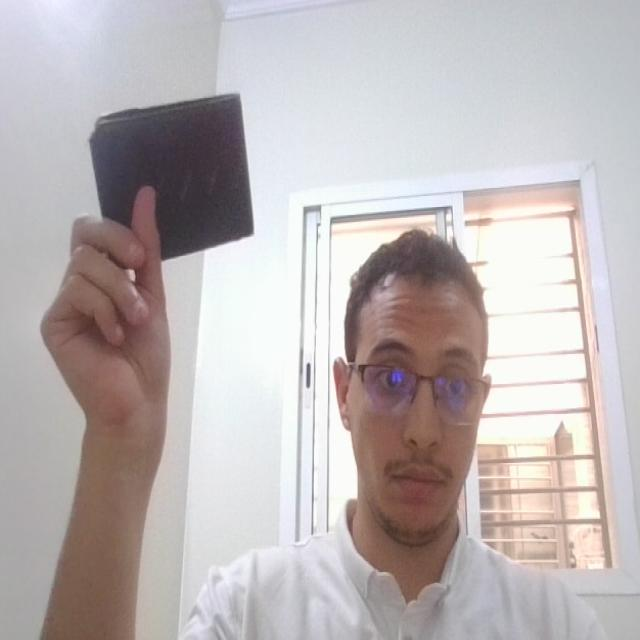wallet: (84, 86, 271, 273)
